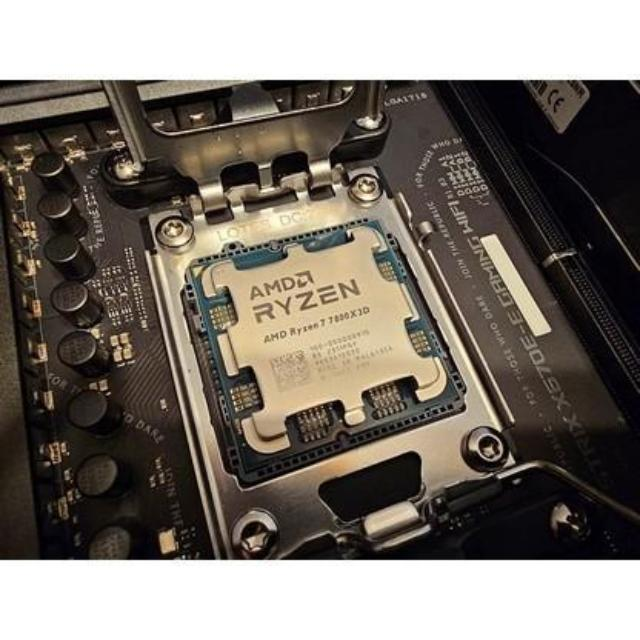CPU: (208, 244, 437, 438)
